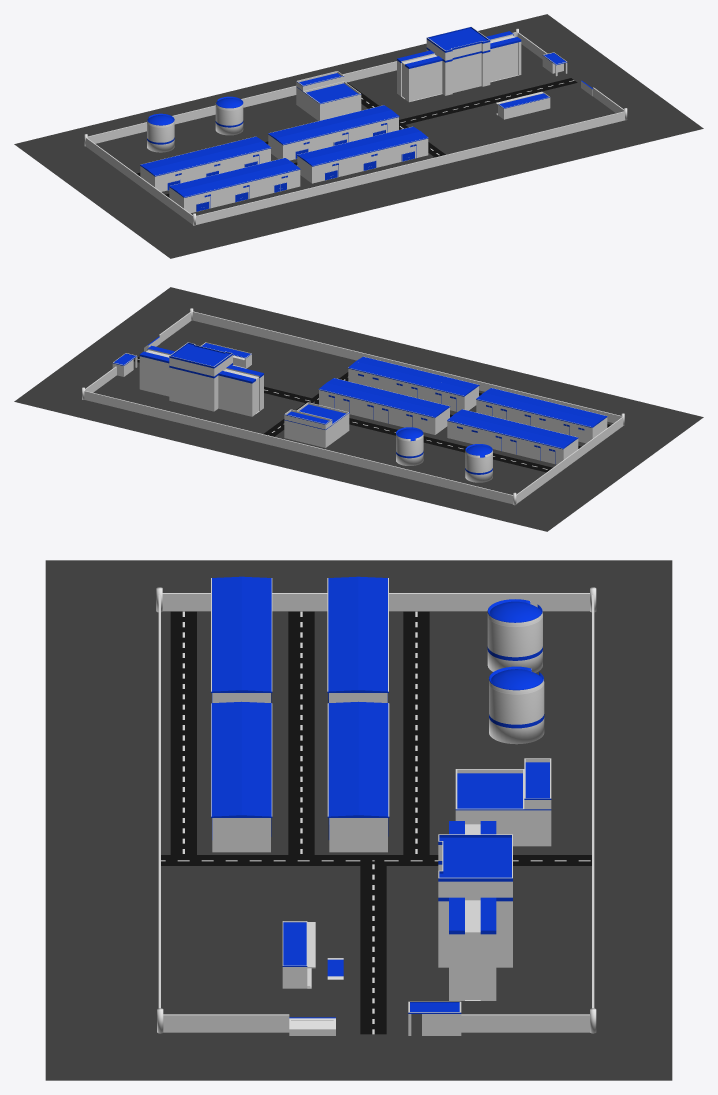
The model's file is esaygrid.glb.
The picture shows the model from 3 angles, top to bottom: view 1: azimuth 30°, elevation 25°; view 2: azimuth 150°, elevation 25°; view 3: azimuth 270°, elevation 25°; orthographic projection. The views are drawn at different scales.
Visible parts, largest first — view 1: ground, 办公楼, 墙5, 综合楼, 墙3, 墙4, 油罐2, 油罐1, 地磅室, 仓体1, 仓体10, 仓体4 (+22 smaller); view 2: ground, 办公楼, 墙3, 墙5, 综合楼, 墙4, 油罐1, 油罐2, 仓体4, 仓体7, 仓体1, 仓体10 (+22 smaller); view 3: ground, 办公楼, 综合楼, 墙4, 油罐2, 油罐1, 仓6, 仓9, 仓12, 仓3, 墙2, 仓5 (+15 smaller).
Boxes of the visible parts, x1=… form: ground: x1=14, y1=14, x2=703, y2=258; 办公楼: x1=397, y1=26, x2=521, y2=102; 墙5: x1=196, y1=111, x2=624, y2=224; 综合楼: x1=296, y1=71, x2=361, y2=120; 墙3: x1=87, y1=32, x2=516, y2=143; 墙4: x1=86, y1=138, x2=192, y2=224; 油罐2: x1=215, y1=96, x2=243, y2=135; 油罐1: x1=147, y1=113, x2=174, y2=152; 地磅室: x1=496, y1=91, x2=550, y2=119; 仓体1: x1=297, y1=156, x2=350, y2=183; 仓体10: x1=169, y1=187, x2=222, y2=213; 仓体4: x1=268, y1=134, x2=321, y2=160; ground: x1=14, y1=287, x2=703, y2=531; 办公楼: x1=139, y1=342, x2=263, y2=416; 墙3: x1=84, y1=391, x2=513, y2=504; 墙5: x1=192, y1=311, x2=621, y2=423; 综合楼: x1=284, y1=402, x2=349, y2=447; 墙4: x1=516, y1=417, x2=623, y2=503; 油罐1: x1=465, y1=444, x2=492, y2=482; 油罐2: x1=396, y1=427, x2=423, y2=465; 仓体4: x1=396, y1=407, x2=449, y2=434; 仓体7: x1=524, y1=438, x2=578, y2=464; 仓体1: x1=425, y1=386, x2=478, y2=411; 仓体10: x1=554, y1=417, x2=607, y2=443; ground: x1=45, y1=560, x2=672, y2=1080; 办公楼: x1=438, y1=821, x2=512, y2=1000; 综合楼: x1=455, y1=758, x2=551, y2=846; 墙4: x1=162, y1=593, x2=589, y2=611; 油罐2: x1=489, y1=666, x2=544, y2=744; 油罐1: x1=487, y1=599, x2=542, y2=672; 仓6: x1=327, y1=777, x2=389, y2=817; 仓9: x1=327, y1=652, x2=388, y2=692; 仓12: x1=211, y1=652, x2=272, y2=692; 仓3: x1=211, y1=777, x2=272, y2=817; 墙2: x1=461, y1=1014, x2=590, y2=1032; 仓5: x1=327, y1=739, x2=389, y2=778.
Bounding box in the file's own units: 62.5 × 5.03 × 31.8.
